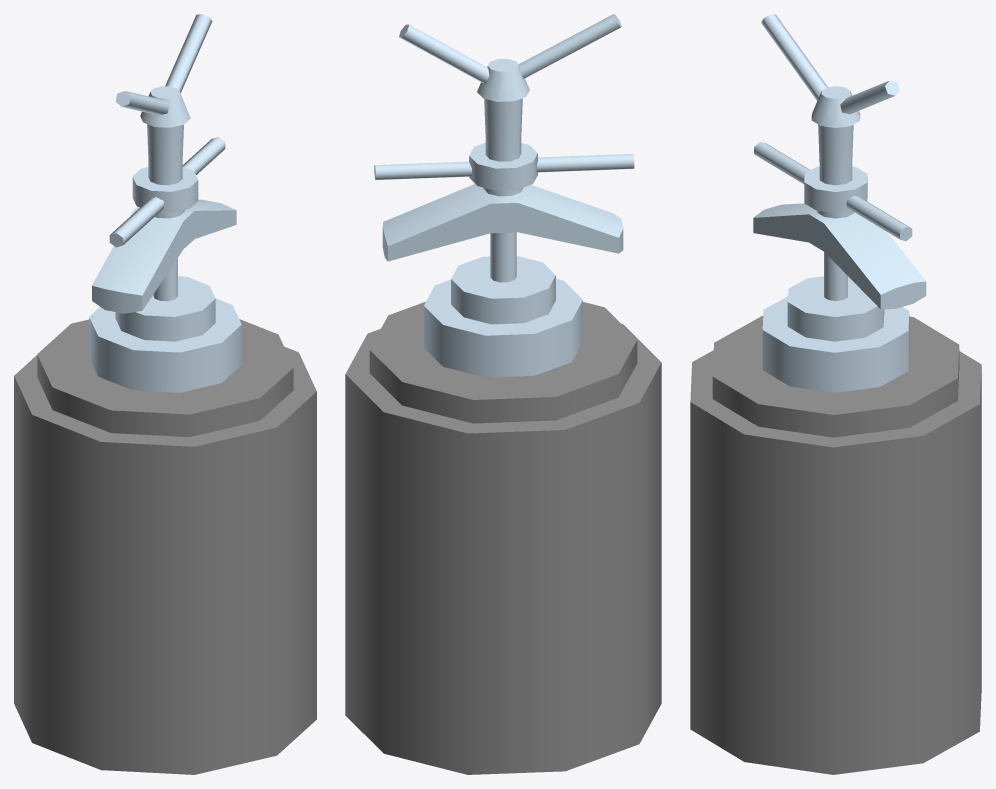
File: SM_实验室球磨机储物罐.FBX
3 views of the same model, side by side, from view 1: azimuth 30°, elevation 25°; view 2: azimuth 150°, elevation 25°; view 3: azimuth 270°, elevation 25° (orthographic). The views are drawn at different scales.
Visible parts, largest first — view 1: SM_实验室球磨机_储物罐_罐主体, SM_实验室球磨机_储物罐_紧密阀; view 2: SM_实验室球磨机_储物罐_罐主体, SM_实验室球磨机_储物罐_紧密阀; view 3: SM_实验室球磨机_储物罐_罐主体, SM_实验室球磨机_储物罐_紧密阀.
Part boxes in pixels (x1,y1,x2,y2): SM_实验室球磨机_储物罐_罐主体: [14, 319, 316, 774]; SM_实验室球磨机_储物罐_紧密阀: [89, 14, 241, 392]; SM_实验室球磨机_储物罐_罐主体: [345, 301, 661, 774]; SM_实验室球磨机_储物罐_紧密阀: [374, 14, 634, 377]; SM_实验室球磨机_储物罐_罐主体: [690, 316, 981, 774]; SM_实验室球磨机_储物罐_紧密阀: [753, 14, 926, 392].
Size of the model in its own units: 67.53 by 162 by 64.59.
